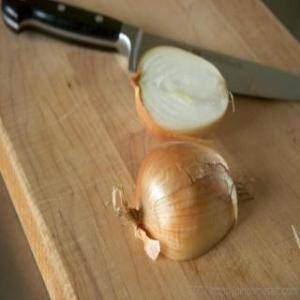onion: (132, 143, 240, 263), (130, 44, 230, 140)
